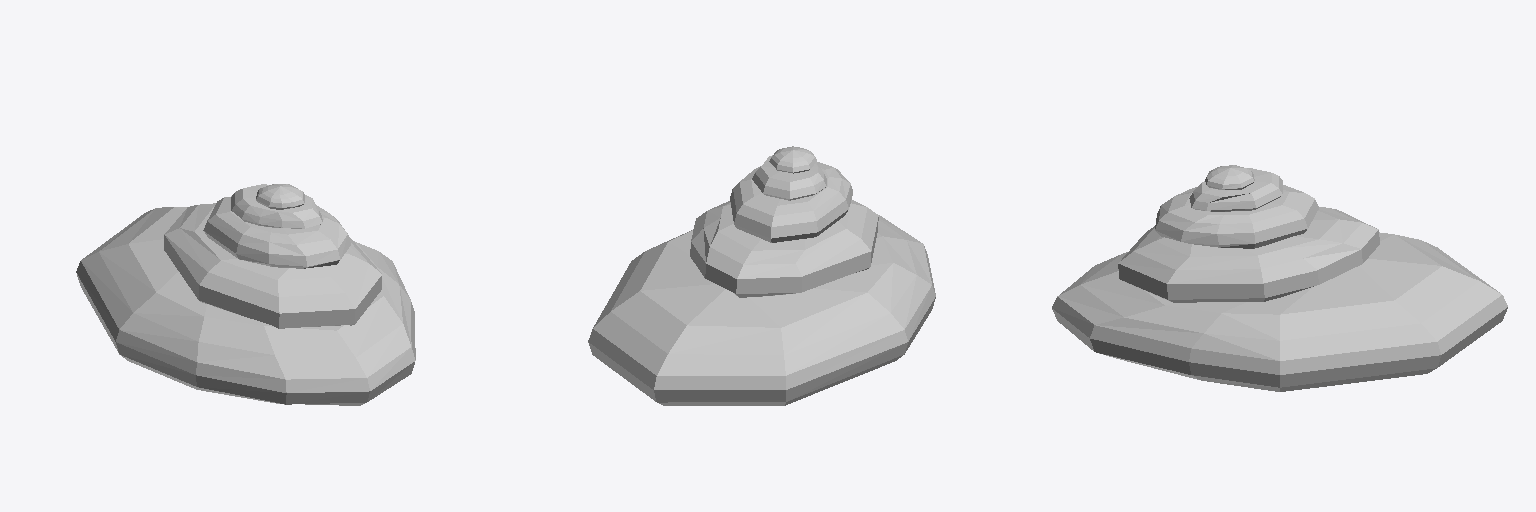
File: Rock2_low.obj
3 renders of one model, left to right at view 1: azimuth 30°, elevation 25°; view 2: azimuth 150°, elevation 25°; view 3: azimuth 270°, elevation 25°, orthographic.
Visible parts, largest first — view 1: pCylinder21; view 2: pCylinder21; view 3: pCylinder21.
Boxes of the visible parts, x1=… form: pCylinder21: x1=76, y1=184, x2=415, y2=405; pCylinder21: x1=588, y1=146, x2=935, y2=405; pCylinder21: x1=1052, y1=165, x2=1507, y2=391.
Bounding box in the file's own units: 27.35 × 16.37 × 38.58.